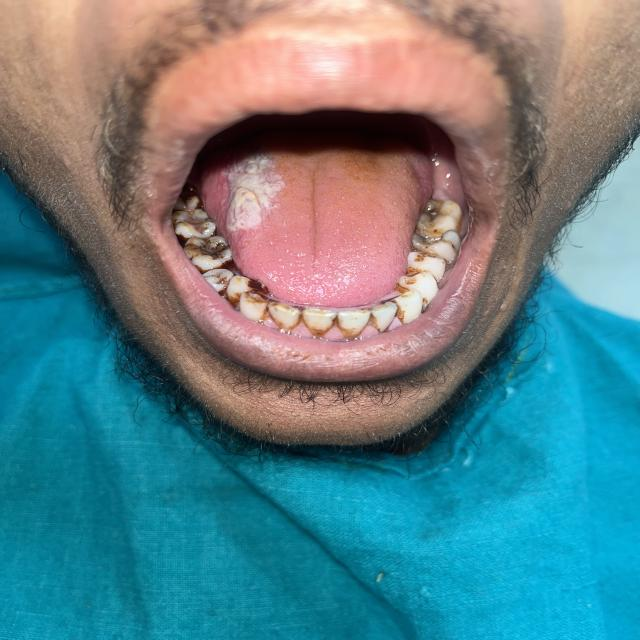leukoplakia-detection: (220, 152, 289, 234)
processing_area: (197, 151, 465, 306)
